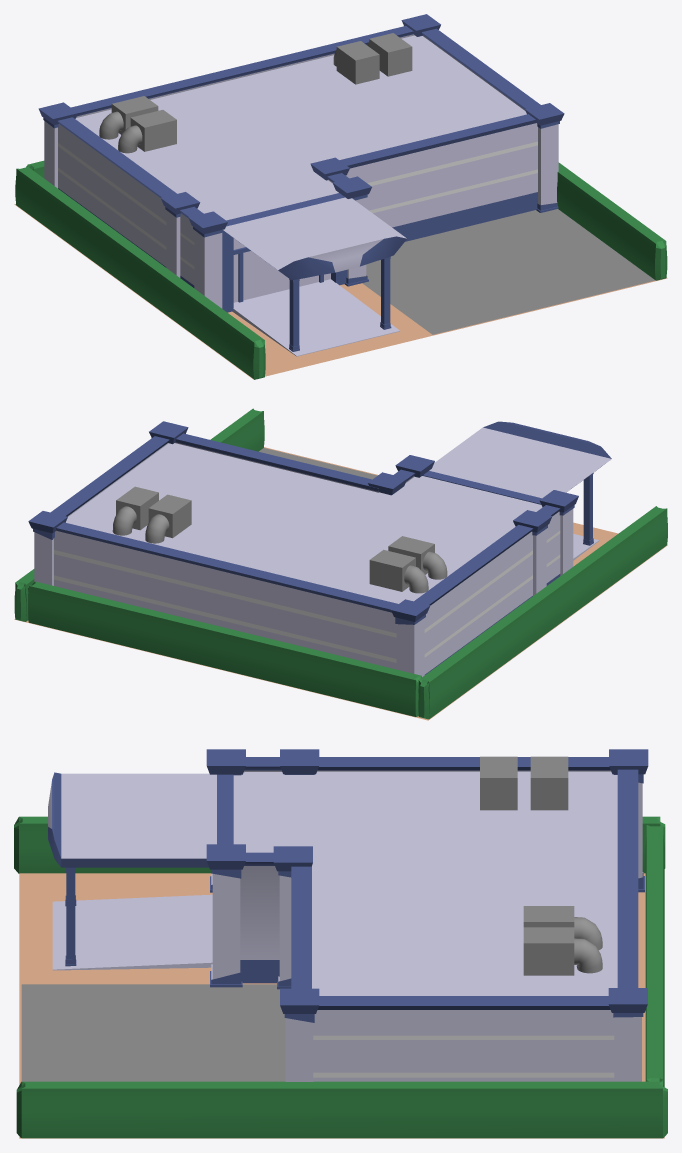
File: predioMedNvl1.fbx
3 views of the same model, one above another, from view 1: azimuth 30°, elevation 25°; view 2: azimuth 150°, elevation 25°; view 3: azimuth 270°, elevation 25° (orthographic). The views are drawn at different scales.
Parts seen in each view (by area): view 1: PredioMed.001; view 2: PredioMed.001; view 3: PredioMed.001.
Part boxes in pixels (left/top/right/bottom): PredioMed.001: left=14, top=14, right=667, bottom=379; PredioMed.001: left=14, top=408, right=667, bottom=720; PredioMed.001: left=14, top=749, right=667, bottom=1138.
Bounding box in the file's own units: 3944 × 1017 × 3996.
